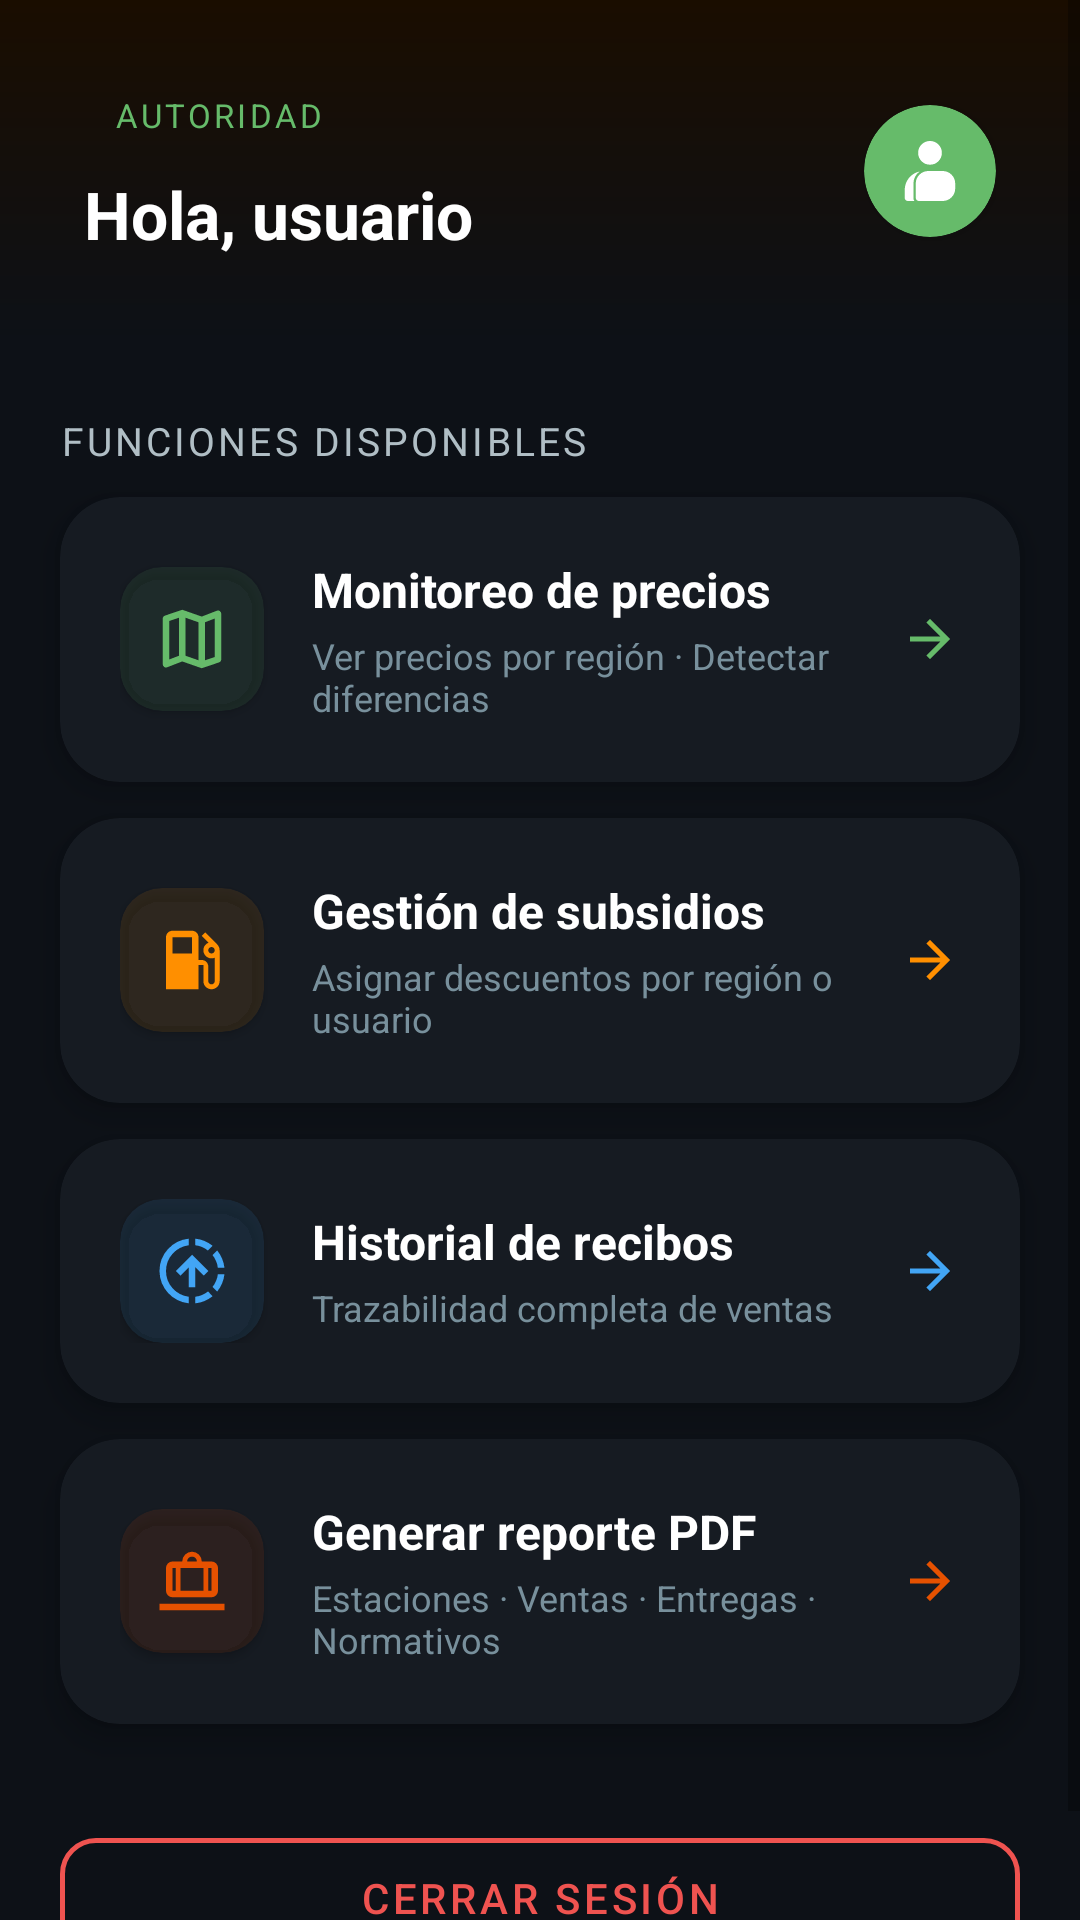

Icon click points for this 1080px x 1920px phone screenshot, format [x,y]:
arrow forward: [930,639], [930,960], [930,1271], [930,1581]
fuel drop: [193,960]
person: [930,171]
